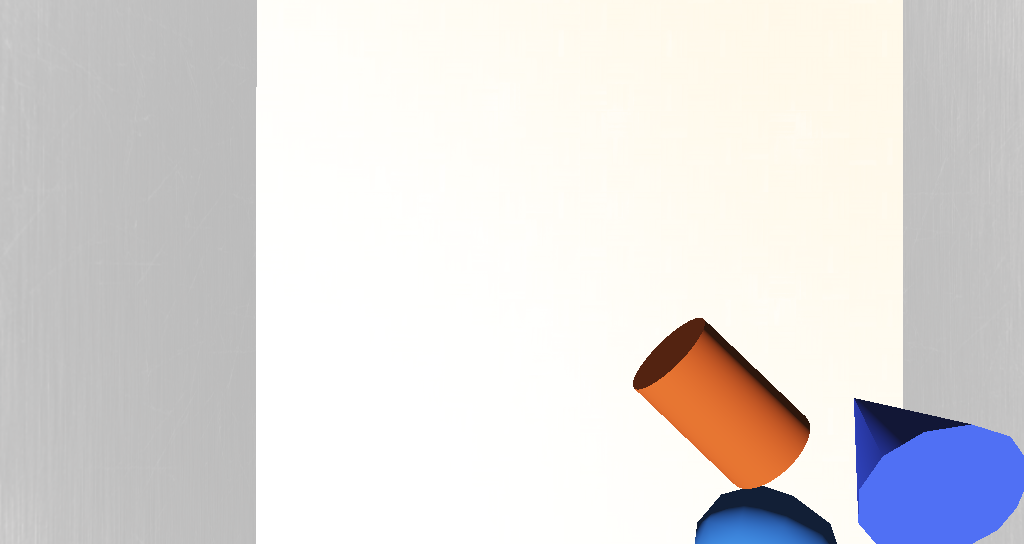cone: (525, 282, 606, 339)
cylinder: (600, 286, 680, 353)
sphere: (556, 334, 616, 382)
